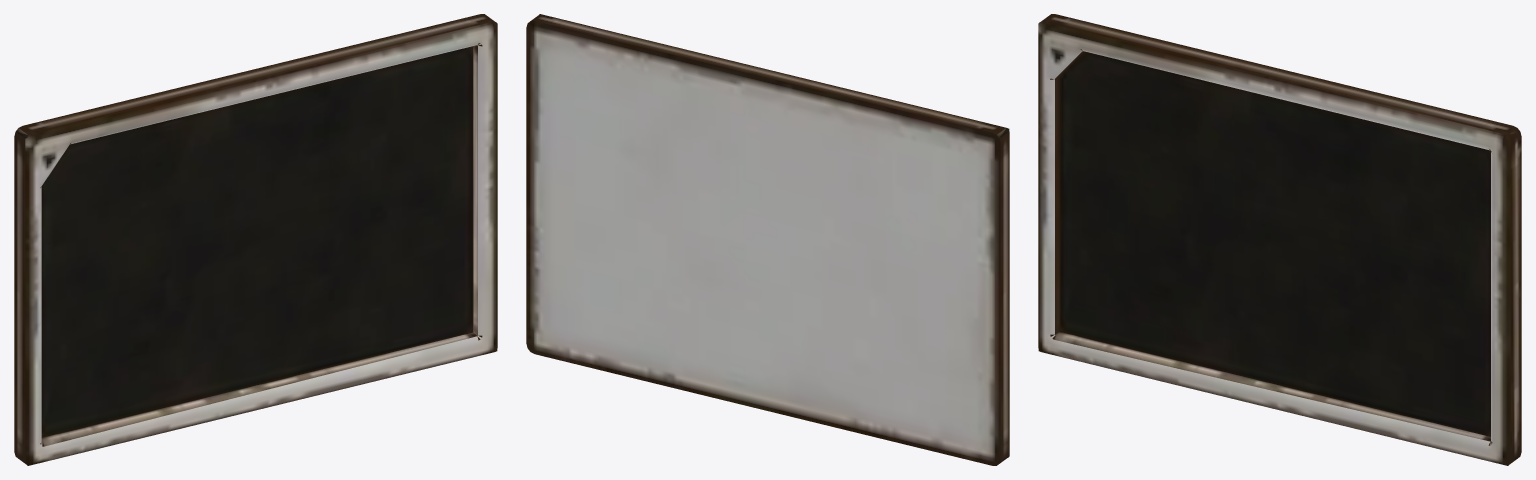
File: wall-screen.glb
The picture shows the model from 3 angles, left to right: view 1: azimuth 30°, elevation 25°; view 2: azimuth 150°, elevation 25°; view 3: azimuth 330°, elevation 25°; orthographic projection.
Visible parts, largest first — view 1: Object_2; view 2: Object_2; view 3: Object_2.
Boxes of the visible parts, bbox=[...] form: Object_2: bbox=[14, 14, 497, 465]; Object_2: bbox=[526, 14, 1009, 465]; Object_2: bbox=[1038, 14, 1521, 465].
Bounding box in the file's own units: 2.99 × 2.01 × 0.1317.
Materials: 1 (1 with a texture image).
